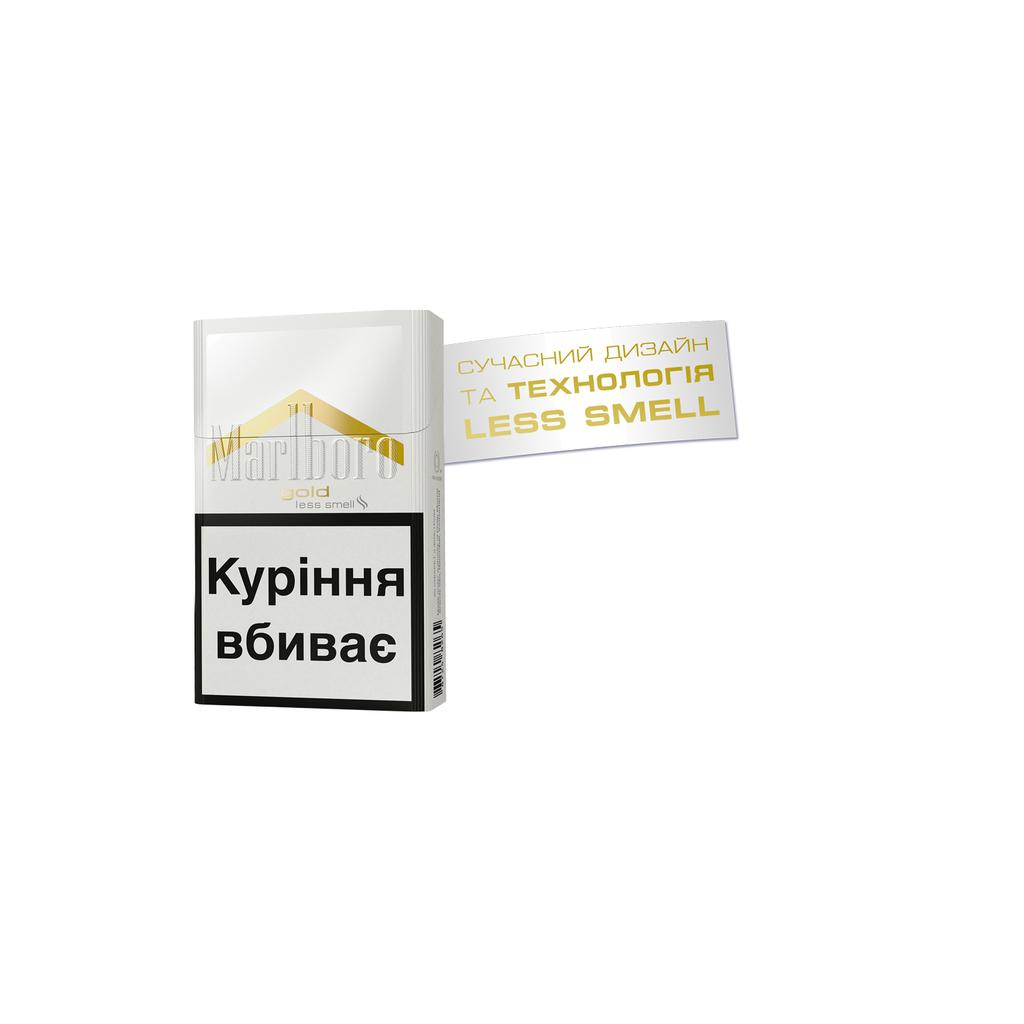marlboro_gold: (196, 322, 433, 710)
